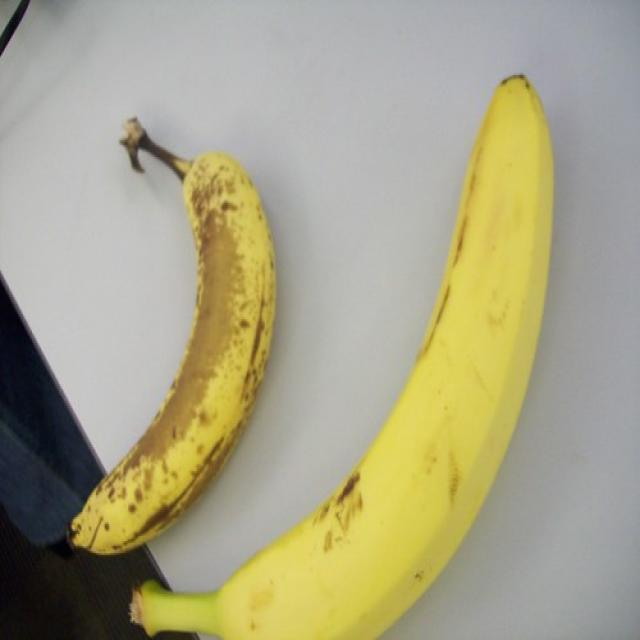Banana: (215, 71, 555, 640), (71, 115, 281, 552)
